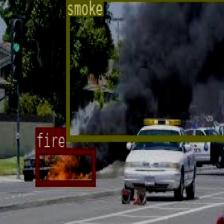fire: (35, 147, 95, 186)
smoke: (65, 0, 224, 141)
